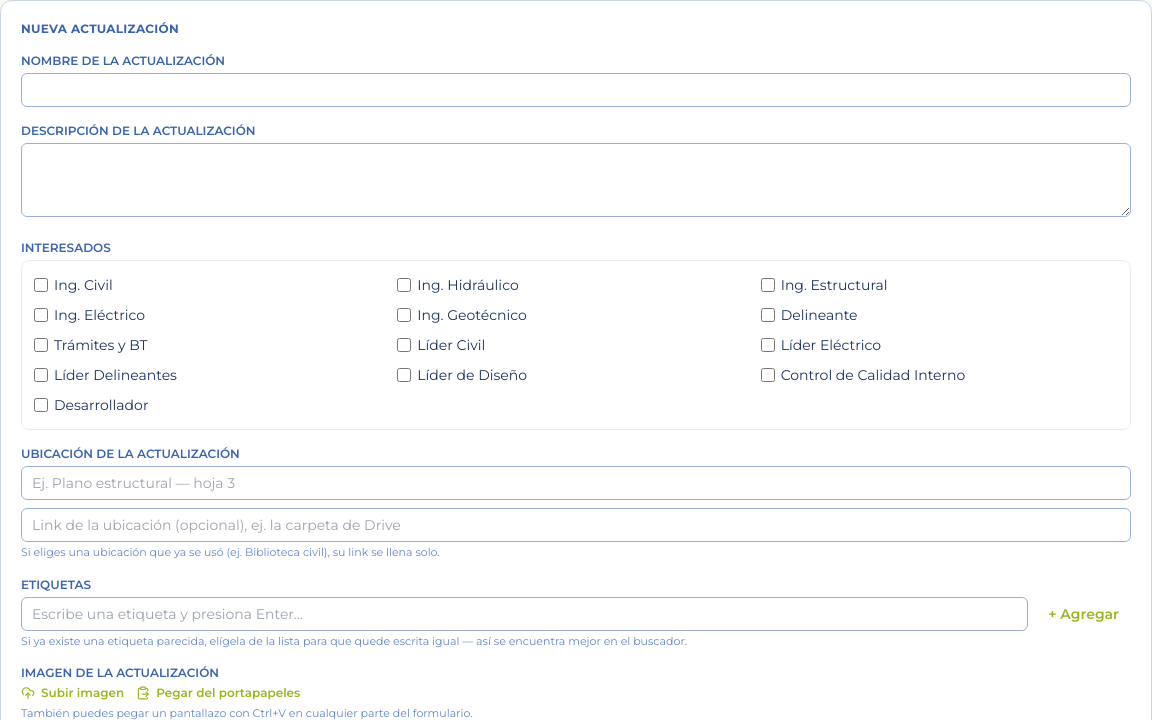
Test: el formulario de una actualización › si el navegador no deja leer el portapapeles, explica cómo pegar
Click the button "Pegar del portapapeles": (218, 693) [136,685,300,701]
(page scrolled)
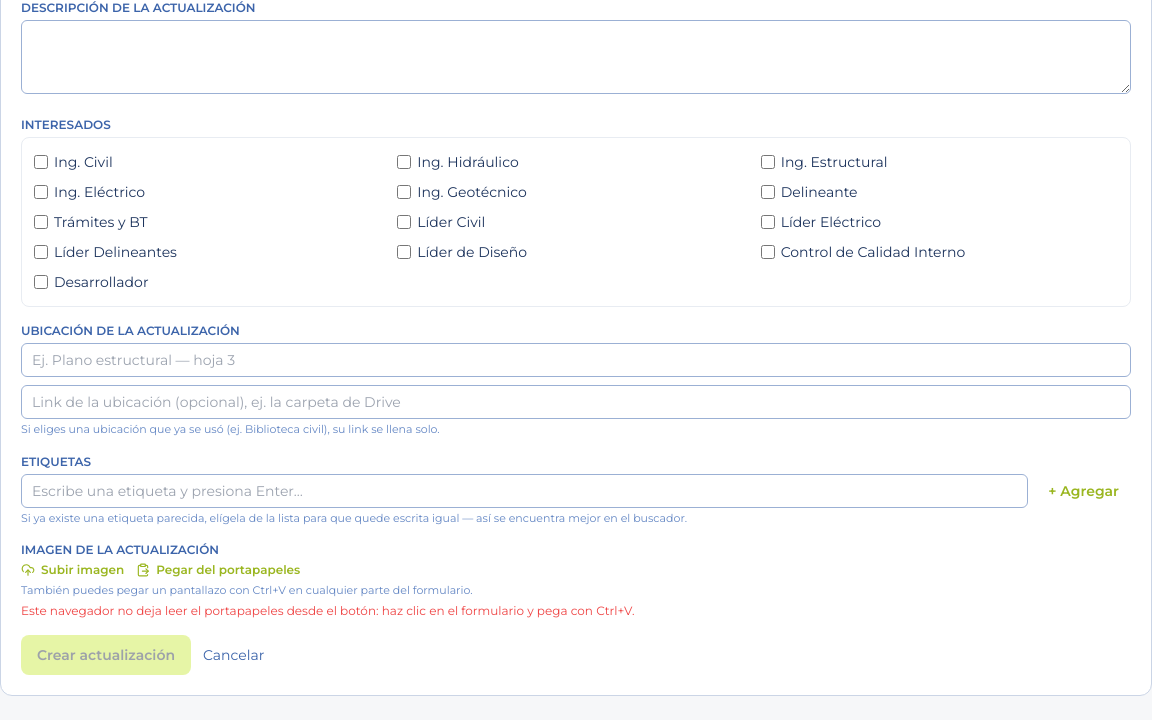
Expected: the text "pega con Ctrl+V" is shown, [21,602,635,618]
